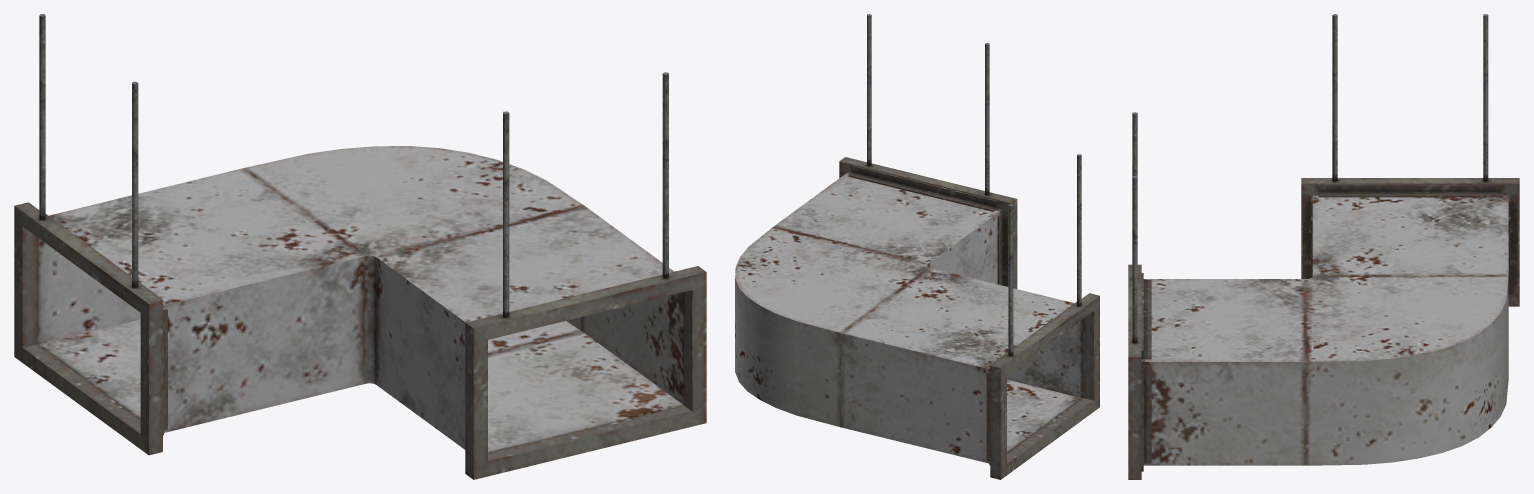
The model's file is sm22_058_duct02a.fbx.
3 renders of one model, left to right at view 1: azimuth 30°, elevation 25°; view 2: azimuth 150°, elevation 25°; view 3: azimuth 270°, elevation 25°, orthographic. The views are drawn at different scales.
Visible parts, largest first — view 1: LOD_1_Group_0_Sub_1__sm22_058_Duct02A_A_Mat__Env_default; view 2: LOD_1_Group_0_Sub_1__sm22_058_Duct02A_A_Mat__Env_default; view 3: LOD_1_Group_0_Sub_1__sm22_058_Duct02A_A_Mat__Env_default.
Part boxes in pixels (left/top/right/bottom): LOD_1_Group_0_Sub_1__sm22_058_Duct02A_A_Mat__Env_default: left=14, top=14, right=706, bottom=479; LOD_1_Group_0_Sub_1__sm22_058_Duct02A_A_Mat__Env_default: left=735, top=14, right=1099, bottom=479; LOD_1_Group_0_Sub_1__sm22_058_Duct02A_A_Mat__Env_default: left=1128, top=14, right=1519, bottom=479.
Size of the model in its own units: 2.37 by 1.79 by 2.19.
